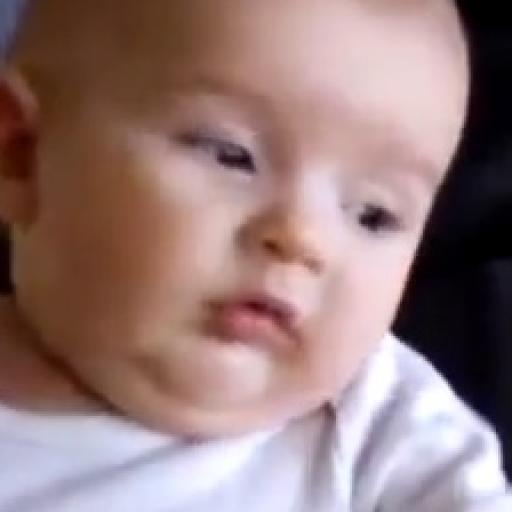Autism: (7, 9, 447, 470)
